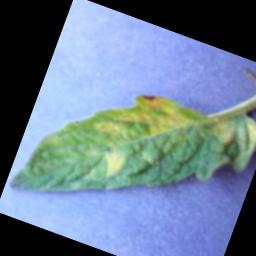Leaf_Mold: (89, 78, 213, 167), (96, 144, 129, 181)
